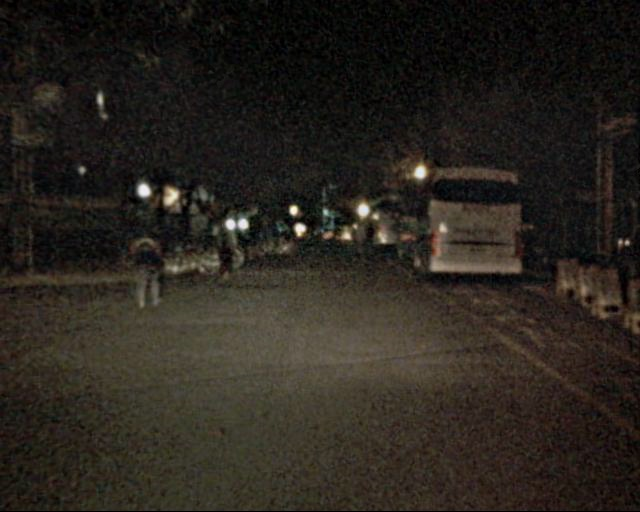person: (130, 215, 170, 312), (206, 211, 237, 286), (352, 220, 378, 258)
